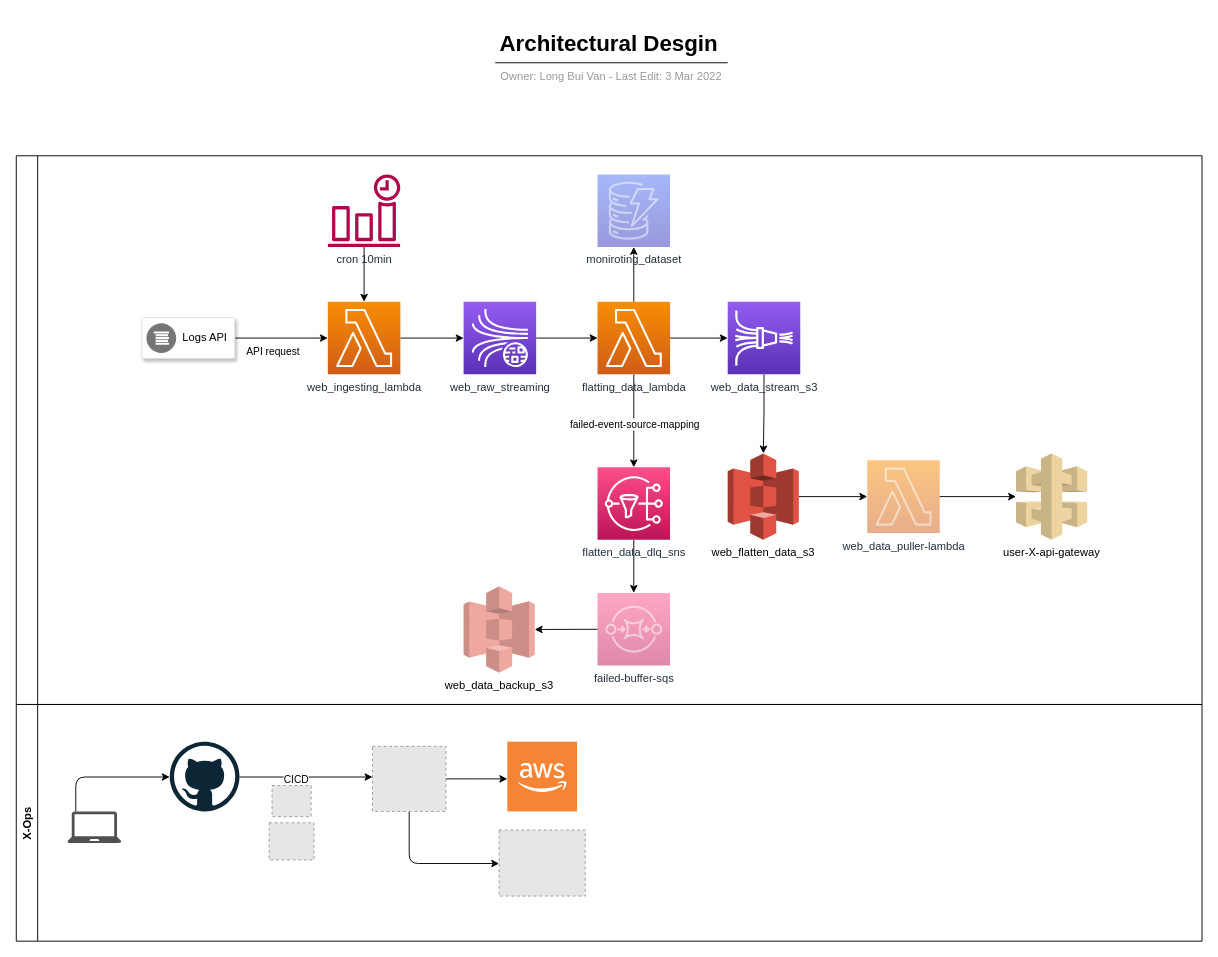
The diagram is 1218 pixels wide and 957 high, and some of its shapes have lost their labels. Grey dashed boxes stand in for pictures. Each missing label, with the centre of its shape:
Data Pipeline Zone: the point at 608,429
Git: the point at 204,776
